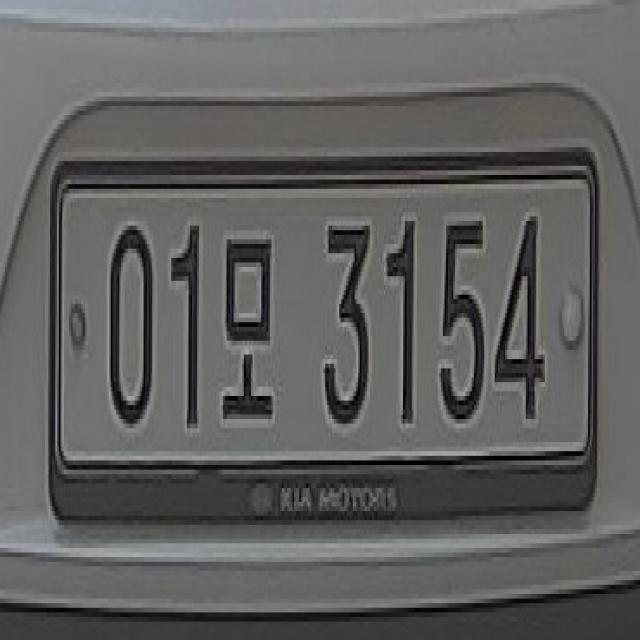0: (100, 216, 158, 452)
1: (166, 204, 206, 452), (387, 198, 423, 434)
3: (304, 194, 374, 443)
4: (490, 190, 550, 440)
5: (432, 206, 490, 442)
license_plate: (47, 145, 598, 485)
mo: (212, 229, 281, 442)
